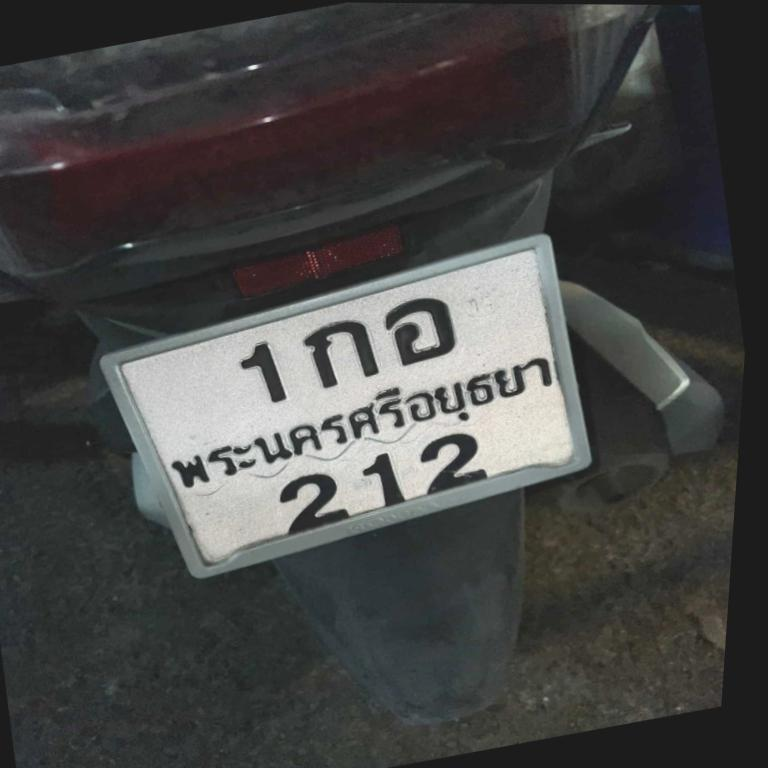license plate: (77, 225, 620, 595)
